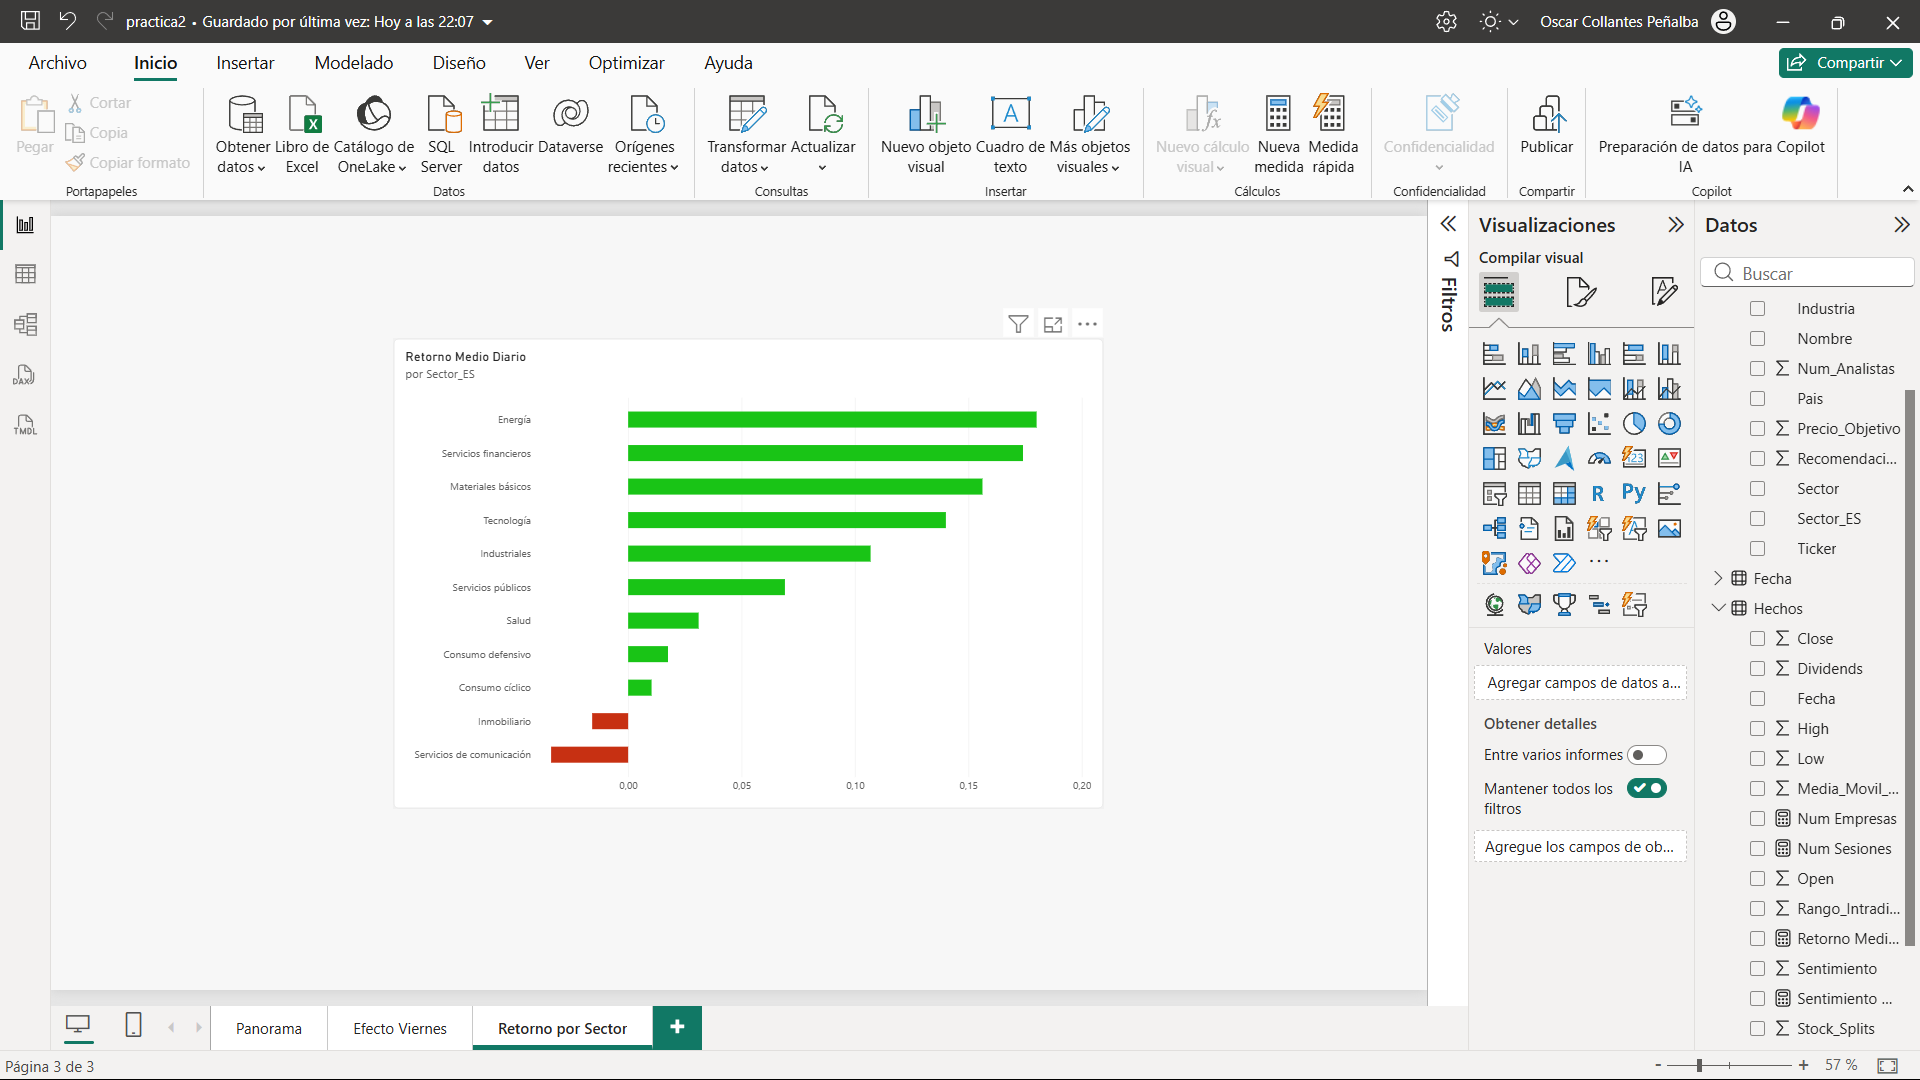

What the dashboard file says about the page in this screenshot:
{"tool":"powerbi","page":{"name":"Retorno por Sector","canvas":[1920,1080],"ordinal":2},"visuals":[{"type":"clusteredBarChart","fields":{"Category":["Empresa.Sector_ES"],"Y":["Hechos.Retorno Medio Diario"]},"box":[477.9,170.9,990.7,655.8],"z":0}]}

Visuals, with their boxes on the page's 1920x1080 design canvas (x1, y1, x2, y2). These are canvas units, not pixel positions in the 1920x1080 screenshot, which may show the page scaled, cropped or inside an application window:
clusteredBarChart - Empresa.Sector_ES x Hechos.Retorno Medio Diario: <region>478, 171, 1469, 827</region>
